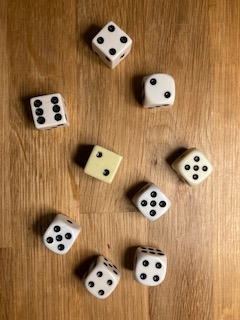five: (168, 146, 217, 189), (129, 180, 174, 223), (40, 213, 84, 256)
four: (89, 19, 134, 70), (81, 253, 123, 302), (130, 244, 170, 288)
six: (28, 91, 72, 133)
two: (81, 143, 125, 186), (139, 71, 179, 112)
